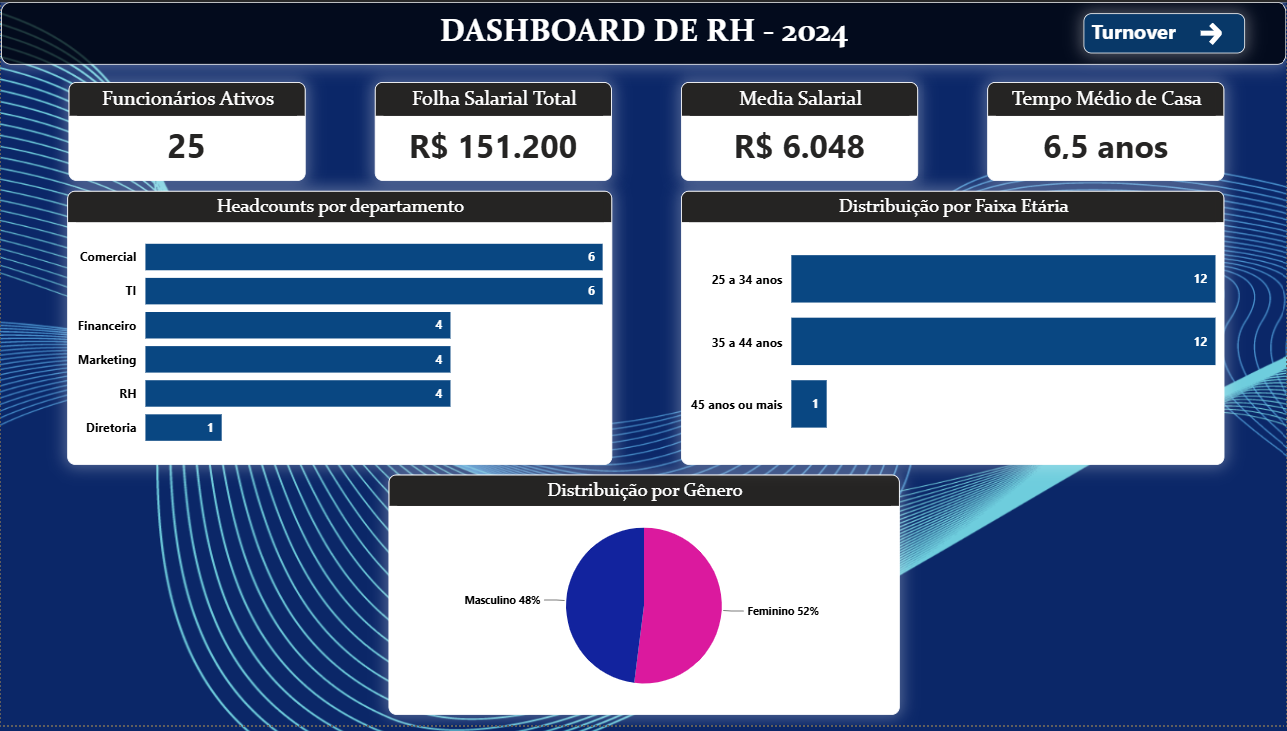

This screenshot's page, from the dashboard's own definition file:
{"tool":"powerbi","page":{"name":"Visão Geral","canvas":[1280,720],"ordinal":1},"visuals":[{"type":"cardVisual","title":"Funcionários Ativos","fields":{"Data":["funcionarios.Total Ativos"]},"box":[67.2,79.6,236.4,98.3],"z":0},{"type":"textbox","title":"hffhfffffff","box":[0,0,1280,62.2],"z":1000},{"type":"cardVisual","title":"Folha Salarial Total","fields":{"Data":["historico_salarios.Folha Total Texto"]},"box":[371.9,79.1,236.4,98.3],"z":2000},{"type":"cardVisual","title":"Media Salarial","fields":{"Data":["historico_salarios.Salario Medio Texto"]},"box":[676.7,79.1,236.4,98.3],"z":3000},{"type":"cardVisual","title":"Tempo Médio de Casa ","fields":{"Data":["historico_salarios.Tempo Medio Casa Texto"]},"box":[981.5,79.1,236.4,98.3],"z":4000},{"type":"clusteredBarChart","title":"Headcounts por departamento","fields":{"Category":["funcionarios.departamento"],"Y":["funcionarios.Total Ativos"]},"box":[65.9,187.8,542.4,272.4],"z":5000},{"type":"pieChart","title":"Distribuição por Gênero","fields":{"Category":["funcionarios.genero"],"Y":["funcionarios.Total Ativos"]},"box":[385.6,470.2,508.8,238.8],"z":6000},{"type":"clusteredBarChart","title":"Distribuição por Faixa Etária","fields":{"Category":["funcionarios.Faixa Etaria"],"Y":["funcionarios.Total Ativos"]},"box":[676.7,187.8,541.1,272.4],"z":7000},{"type":"actionButton","box":[1077.3,11.2,160.5,39.8],"z":8000}]}

Visuals, with their boxes in screenshot pixels (x1, y1, x2, y2), scaled from the page's 1280x720 canvas onto the 1287x731 screenshot:
"Funcionários Ativos" cardVisual: x1=68, y1=81, x2=305, y2=181
"hffhfffffff" textbox: x1=0, y1=0, x2=1286, y2=63
"Folha Salarial Total" cardVisual: x1=374, y1=80, x2=612, y2=180
"Media Salarial" cardVisual: x1=680, y1=80, x2=918, y2=180
"Tempo Médio de Casa " cardVisual: x1=987, y1=80, x2=1225, y2=180
"Headcounts por departamento" clusteredBarChart: x1=66, y1=191, x2=612, y2=467
"Distribuição por Gênero" pieChart: x1=388, y1=477, x2=899, y2=720
"Distribuição por Faixa Etária" clusteredBarChart: x1=680, y1=191, x2=1224, y2=467
actionButton: x1=1083, y1=11, x2=1245, y2=52
